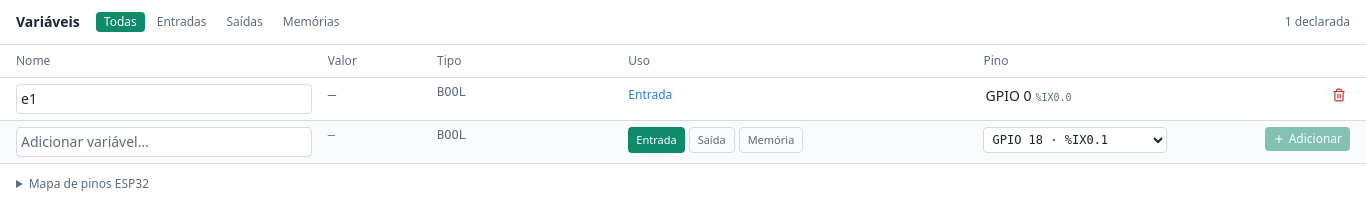
Test case: TabelaVariaveis — estado vazio (tarefa #26: a linha de adicionar continua visível) › filtrando uma categoria sem variáveis, mostra texto específico e a linha de adicionar continua visível
This screenshot has width=1366, height=208.
Click the tab "Saídas".
click(245, 22)  # box [218, 12, 271, 32]
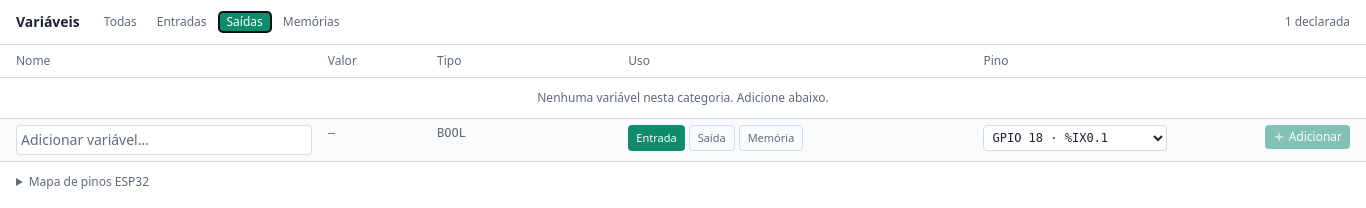
Expected: the field named "Nome da nova variável" is shown, [16, 125, 312, 155]
Result: the text "Nenhuma variável nesta categoria. Adicione abaixo." is shown at [0, 78, 1365, 118]
